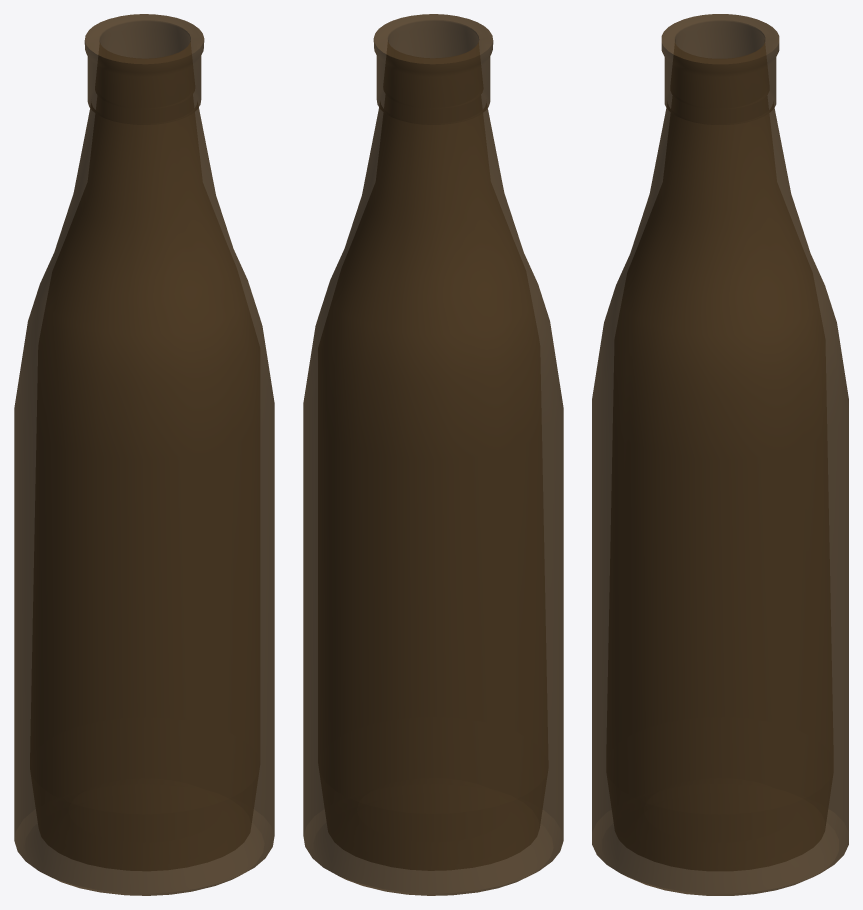
File: BeerBottle.fbx
3 views of the same model, side by side, from view 1: azimuth 30°, elevation 25°; view 2: azimuth 150°, elevation 25°; view 3: azimuth 270°, elevation 25° (orthographic).
Visible parts, largest first — view 1: pCube50; view 2: pCube50; view 3: pCube50.
Boxes of the visible parts, left/top/right/bottom form: pCube50: left=14, top=14, right=274, bottom=895; pCube50: left=303, top=14, right=563, bottom=895; pCube50: left=592, top=14, right=848, bottom=895.
Bounding box in the file's own units: 0.1272 × 0.436 × 0.1259.
